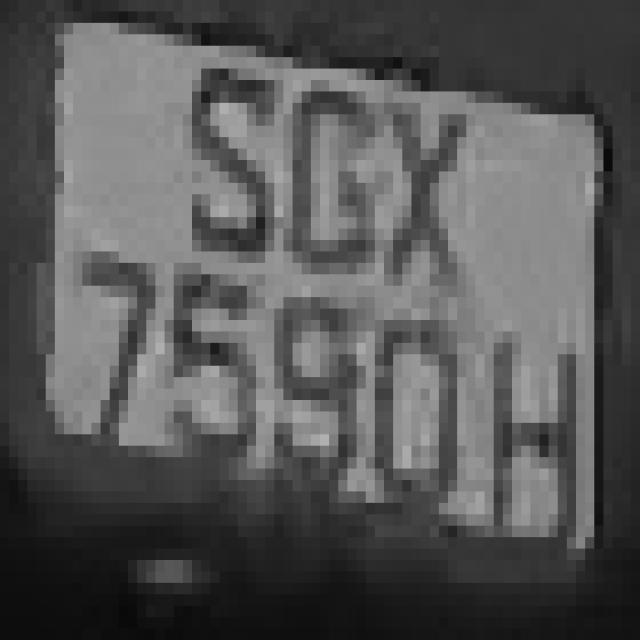0: (366, 286, 475, 571)
5: (146, 217, 265, 492)
7: (36, 194, 156, 492)
9: (256, 297, 375, 514)
G: (256, 69, 375, 320)
H: (439, 320, 612, 571)
S: (174, 23, 274, 308)
X: (366, 80, 494, 320)
